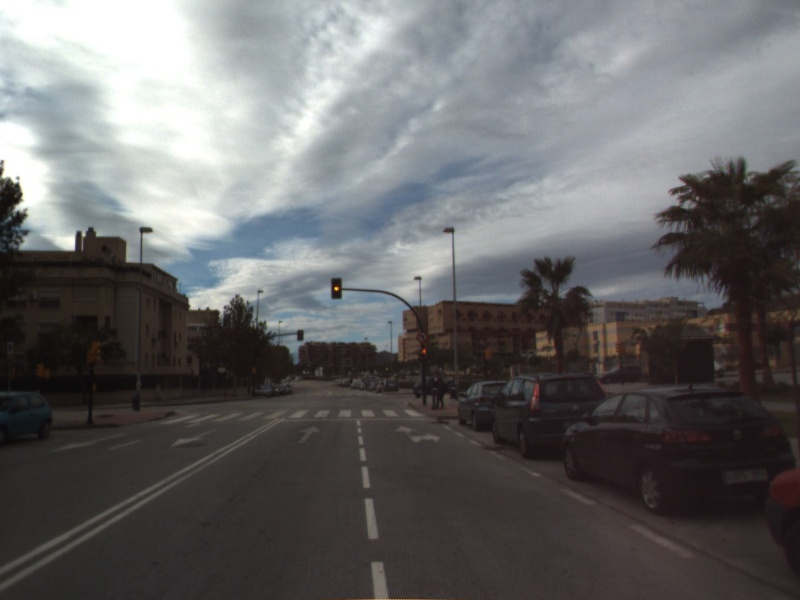STRAIGHT: (296, 423, 323, 445)
STRAIGHT_RIGHT: (393, 423, 443, 445)
